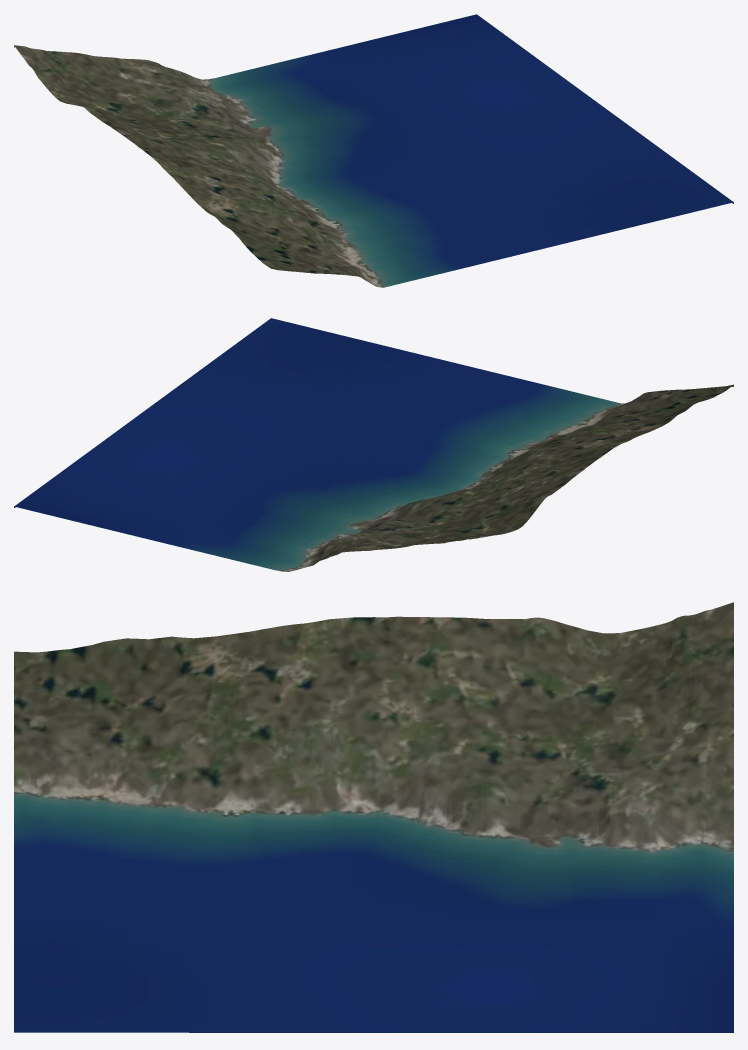
3 renders of one model, top to bottom at view 1: azimuth 30°, elevation 25°; view 2: azimuth 150°, elevation 25°; view 3: azimuth 270°, elevation 25°, orthographic. The views are drawn at different scales.
Size of the model in its own units: 250 by 43.31 by 241.
Materials: 1 (1 with a texture image).
